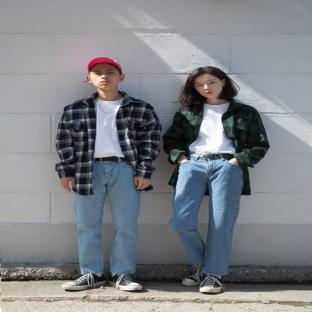Human: (55, 57, 161, 290), (163, 67, 269, 292)
